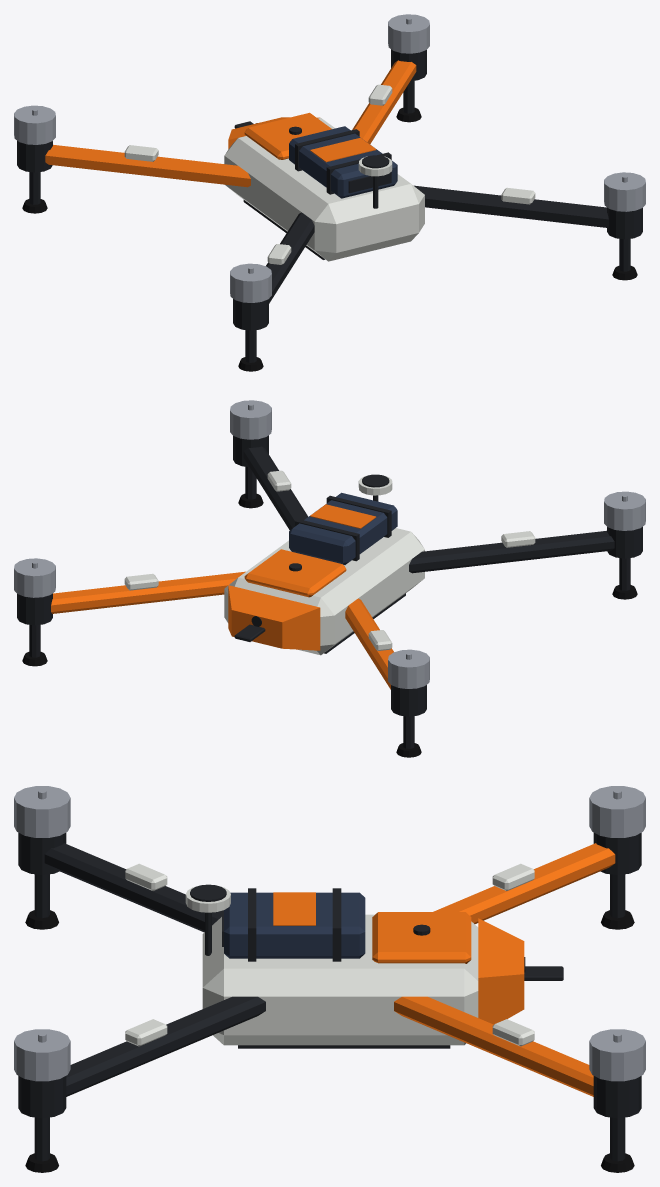
File: drone_mk2_body.glb
3 views of the same model, one above another, from view 1: azimuth 30°, elevation 25°; view 2: azimuth 150°, elevation 25°; view 3: azimuth 270°, elevation 25° (orthographic). The views are drawn at different scales.
Parts seen in each view (by area): view 1: Airframe; view 2: Airframe; view 3: Airframe.
Part boxes in pixels (x1,y1,x2,y2): Airframe: (14,14,645,371); Airframe: (14,400,645,757); Airframe: (14,786,645,1172).
Size of the model in its own units: 0.892 by 0.237 by 0.894.
